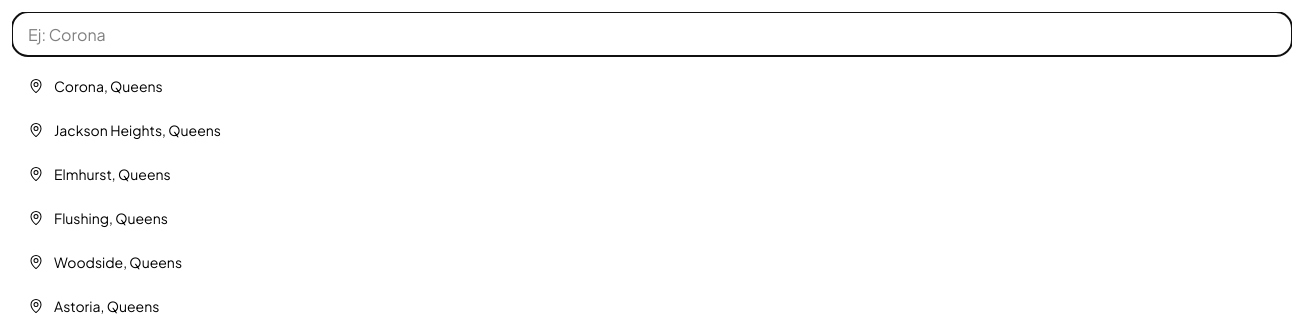
Scenario: ZoneInput — semántica › filtra mientras se escribe
Type "flush" into the field at (652, 34), box left=12, top=12, right=1292, bottom=56
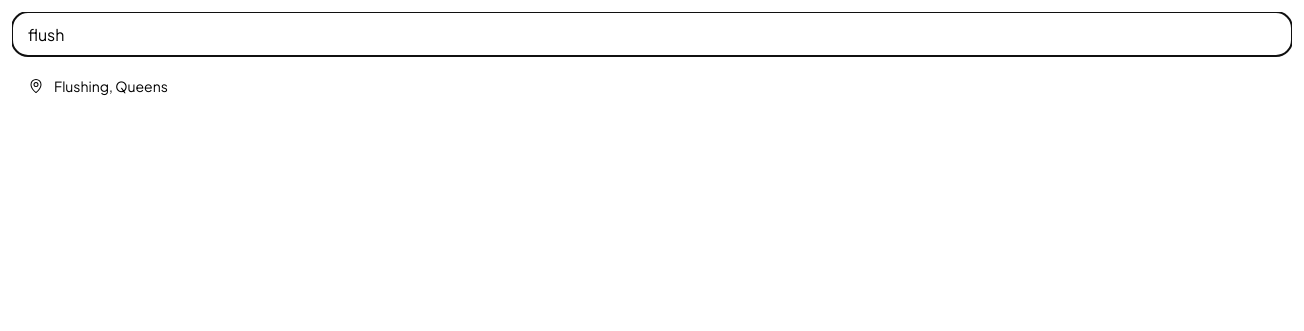
Expected: the button "Flushing, Queens" is shown, left=12, top=64, right=1292, bottom=108
Expected: the button "Astoria, Queens" is gone
